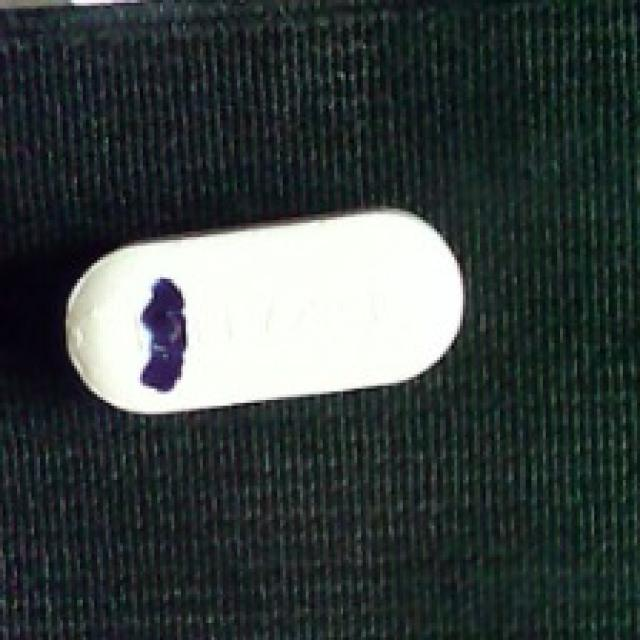defected: (57, 209, 472, 417)
